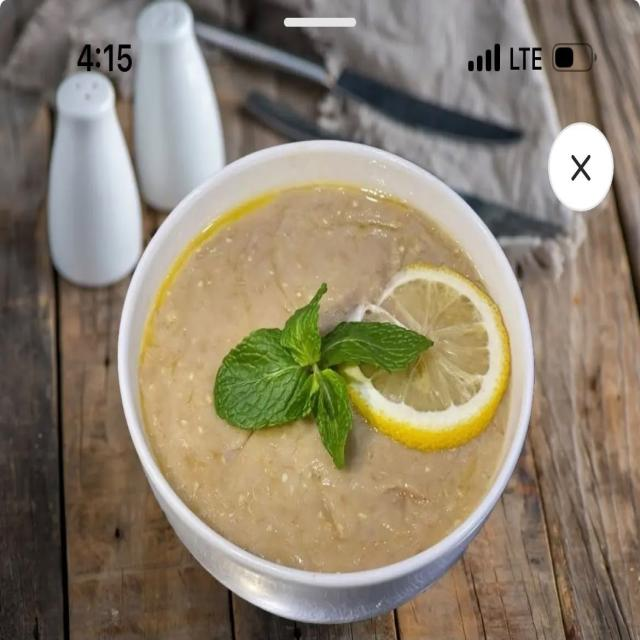Harees: (130, 166, 520, 579)
